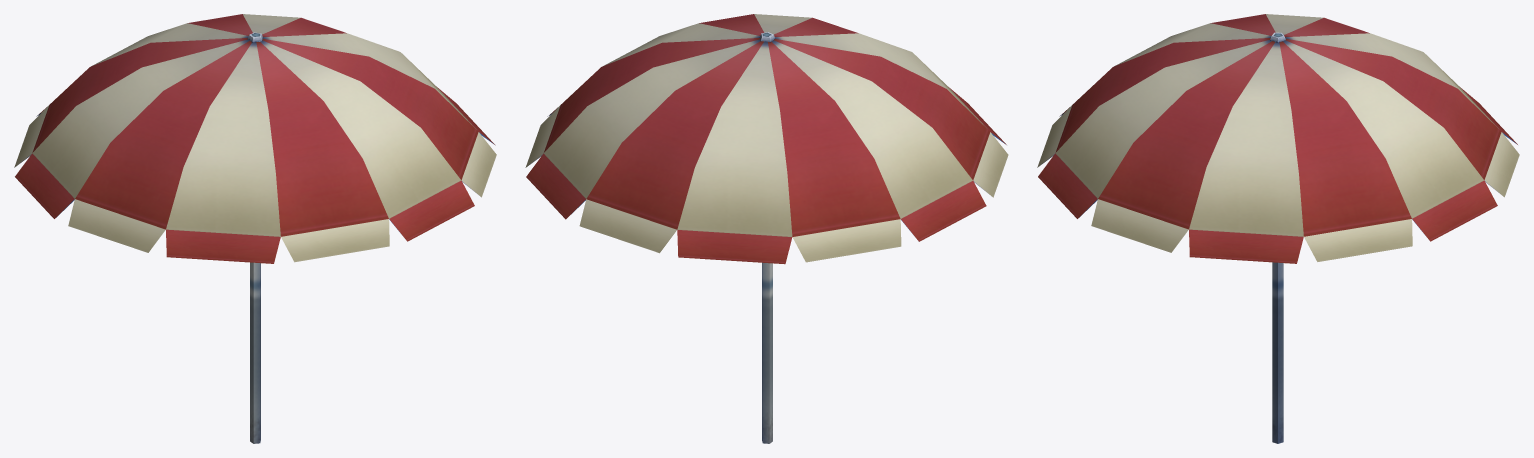
Rendered from JianKongJieDao_01_zeyangsan_01.FBX.
3 views of the same model, side by side, from view 1: azimuth 30°, elevation 25°; view 2: azimuth 150°, elevation 25°; view 3: azimuth 270°, elevation 25° (orthographic).
Visible parts, largest first — view 1: JianKongJieDao_01_zeyangsan_01; view 2: JianKongJieDao_01_zeyangsan_01; view 3: JianKongJieDao_01_zeyangsan_01.
Boxes of the visible parts, x1,y1,x2,y2 form: JianKongJieDao_01_zeyangsan_01: (14,14,496,443); JianKongJieDao_01_zeyangsan_01: (525,14,1008,443); JianKongJieDao_01_zeyangsan_01: (1037,14,1519,443).
Bounding box in the file's own units: 494 × 456 × 491.
